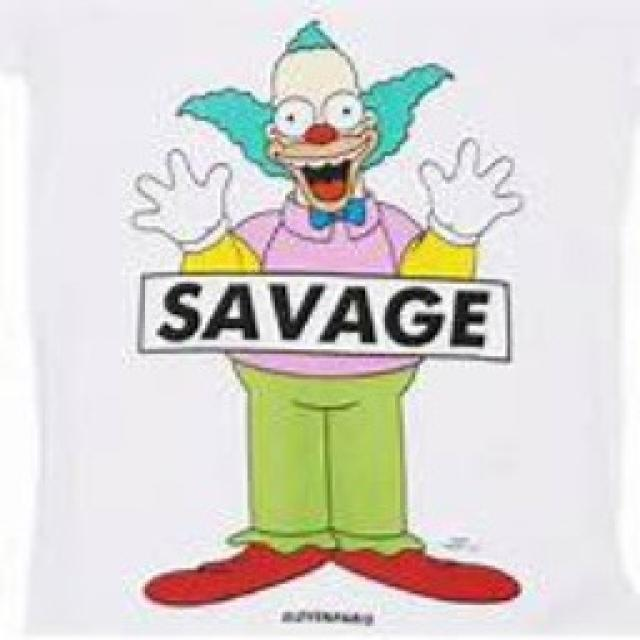Krusty the Clown: (174, 17, 456, 220)
